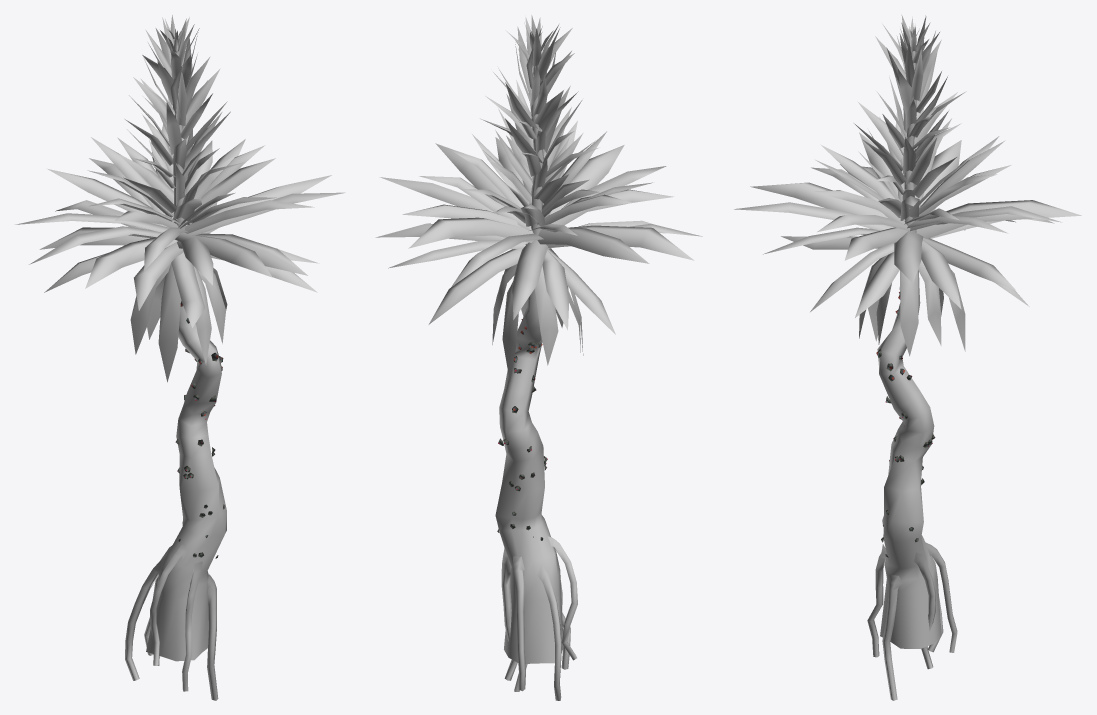
File: Plant15A_L2.fbx
3 views of the same model, side by side, from view 1: azimuth 30°, elevation 25°; view 2: azimuth 150°, elevation 25°; view 3: azimuth 270°, elevation 25° (orthographic). The views are drawn at different scales.
Visible parts, largest first — view 1: polySurface1990; view 2: polySurface1990; view 3: polySurface1990.
Part boxes in pixels (bbox=[...]): polySurface1990: bbox=[15, 15, 345, 700]; polySurface1990: bbox=[375, 15, 702, 700]; polySurface1990: bbox=[734, 14, 1081, 700].
Bounding box in the file's own units: 363 × 762 × 363.
